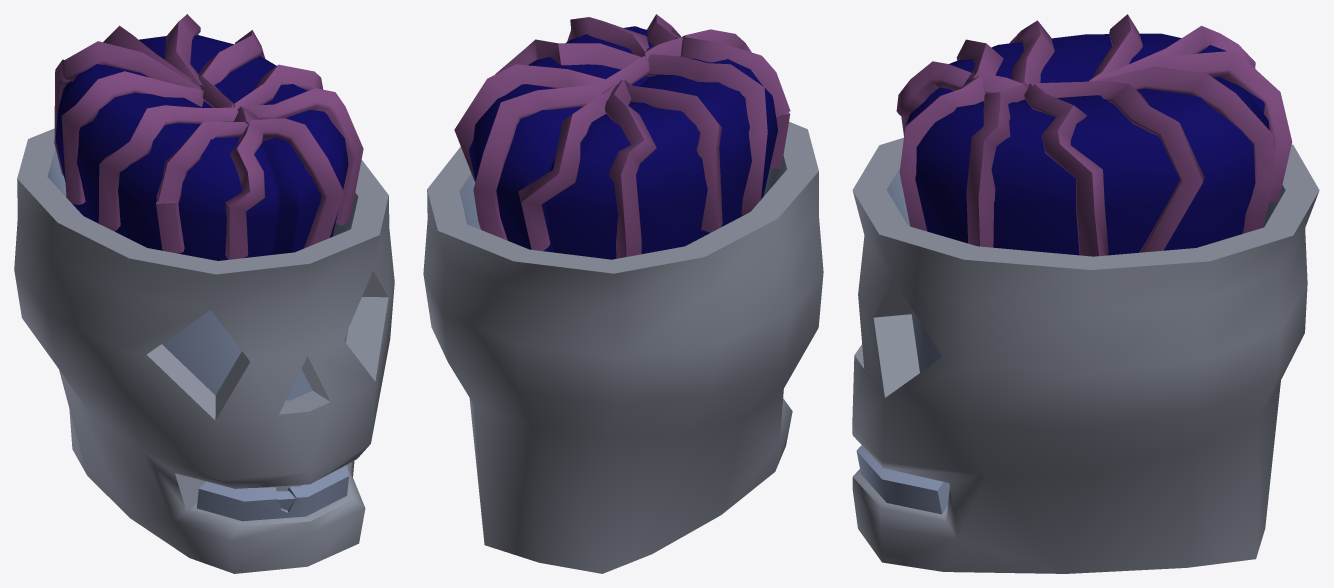
The model's file is skull-vase.fbx.
3 renders of one model, left to right at view 1: azimuth 30°, elevation 25°; view 2: azimuth 150°, elevation 25°; view 3: azimuth 270°, elevation 25°, orthographic. The views are drawn at different scales.
Parts seen in each view (by area): view 1: skull_pot; view 2: skull_pot; view 3: skull_pot.
Part boxes in pixels (bbox=[...]): skull_pot: bbox=[14, 14, 394, 573]; skull_pot: bbox=[423, 14, 823, 573]; skull_pot: bbox=[852, 14, 1319, 573].
Size of the model in its own units: 29.35 by 38.06 by 34.05.
